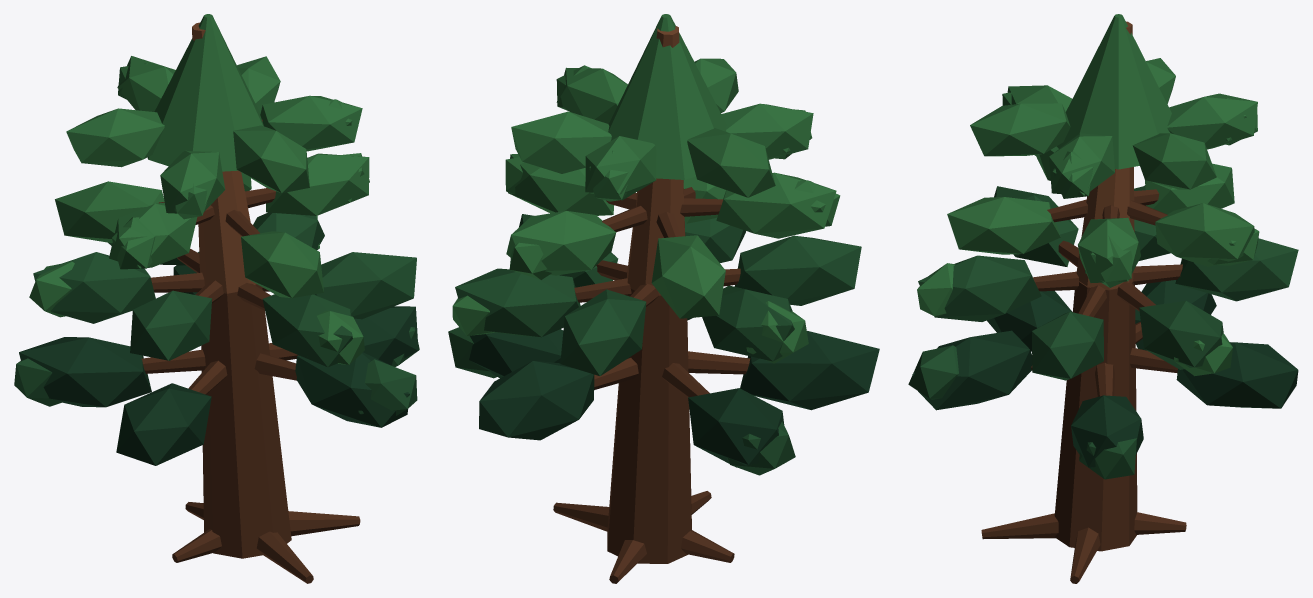
Rendered from tree_pine_d.glb.
3 renders of one model, left to right at view 1: azimuth 30°, elevation 25°; view 2: azimuth 150°, elevation 25°; view 3: azimuth 270°, elevation 25°, orthographic. The views are drawn at different scales.
Parts seen in each view (by area): view 1: Trunk_Lower.003, Leader_Needles.003, Needles_1_3.003, Needles_1_4.003, Needles_2_6.001, Needles_2_3.003, Needles_2_4.003, Needles_1_5.003, Needles_3_4.003, Needles_4_2.002, Trunk_Upper.003, Needles_3_2.003 (+25 smaller); view 2: Trunk_Lower.003, Leader_Needles.003, Needles_1_4.003, Needles_1_2.003, Needles_2_4.003, Needles_2_1.003, Needles_2_2.003, Needles_1_3.003, Needles_3_3.003, Needles_3_2.003, Needles_3_1.003, Needles_4_6 (+28 smaller); view 3: Trunk_Lower.003, Leader_Needles.003, Needles_1_2.003, Needles_3_4.003, Needles_1_5.003, Needles_2_5.003, Needles_3_1.003, Needles_4_4.002, Needles_2_2.003, Needles_2_1.003, Needles_2_6.001, Needles_4_1.002 (+30 smaller).
Boxes of the visible parts, x1,y1,x2,y2 form: Trunk_Lower.003: (201, 284, 291, 558); Leader_Needles.003: (147, 14, 263, 171); Needles_1_3.003: (19, 337, 151, 407); Needles_1_4.003: (116, 383, 211, 465); Needles_2_6.001: (315, 252, 416, 319); Needles_2_3.003: (33, 252, 155, 323); Needles_2_4.003: (130, 290, 211, 360); Needles_1_5.003: (295, 352, 409, 427); Needles_3_4.003: (241, 231, 323, 298); Needles_4_2.002: (66, 108, 164, 167); Trunk_Upper.003: (192, 22, 255, 293); Needles_3_2.003: (55, 181, 164, 243); Trunk_Lower.003: (607, 277, 691, 563); Leader_Needles.003: (608, 14, 726, 179); Needles_1_4.003: (740, 331, 879, 410); Needles_1_2.003: (479, 361, 594, 440); Needles_2_4.003: (734, 235, 861, 305); Needles_2_1.003: (455, 268, 580, 337); Needles_2_2.003: (560, 289, 646, 375); Needles_1_3.003: (688, 388, 784, 467); Needles_3_3.003: (716, 172, 836, 238); Needles_3_2.003: (651, 235, 725, 318); Needles_3_1.003: (506, 211, 616, 275); Needles_4_6: (511, 111, 611, 173); Trunk_Lower.003: (1054, 282, 1137, 551); Leader_Needles.003: (1056, 14, 1171, 169); Needles_1_2.003: (1176, 342, 1298, 408); Needles_3_4.003: (947, 197, 1060, 254); Needles_1_5.003: (912, 330, 1032, 410); Needles_2_5.003: (918, 255, 1041, 321); Needles_3_1.003: (1155, 203, 1254, 266); Needles_4_4.002: (970, 103, 1070, 156); Needles_2_2.003: (1175, 238, 1298, 301); Needles_2_1.003: (1139, 300, 1223, 369); Needles_2_6.001: (1032, 311, 1103, 380); Needles_4_1.002: (1167, 93, 1257, 149).
Bounding box in the file's own units: 3.73 × 5.17 × 3.59.
